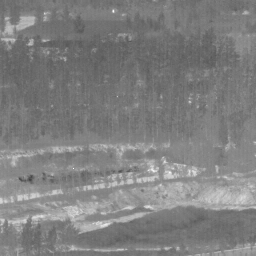aircraft: (116, 96, 118, 98)
